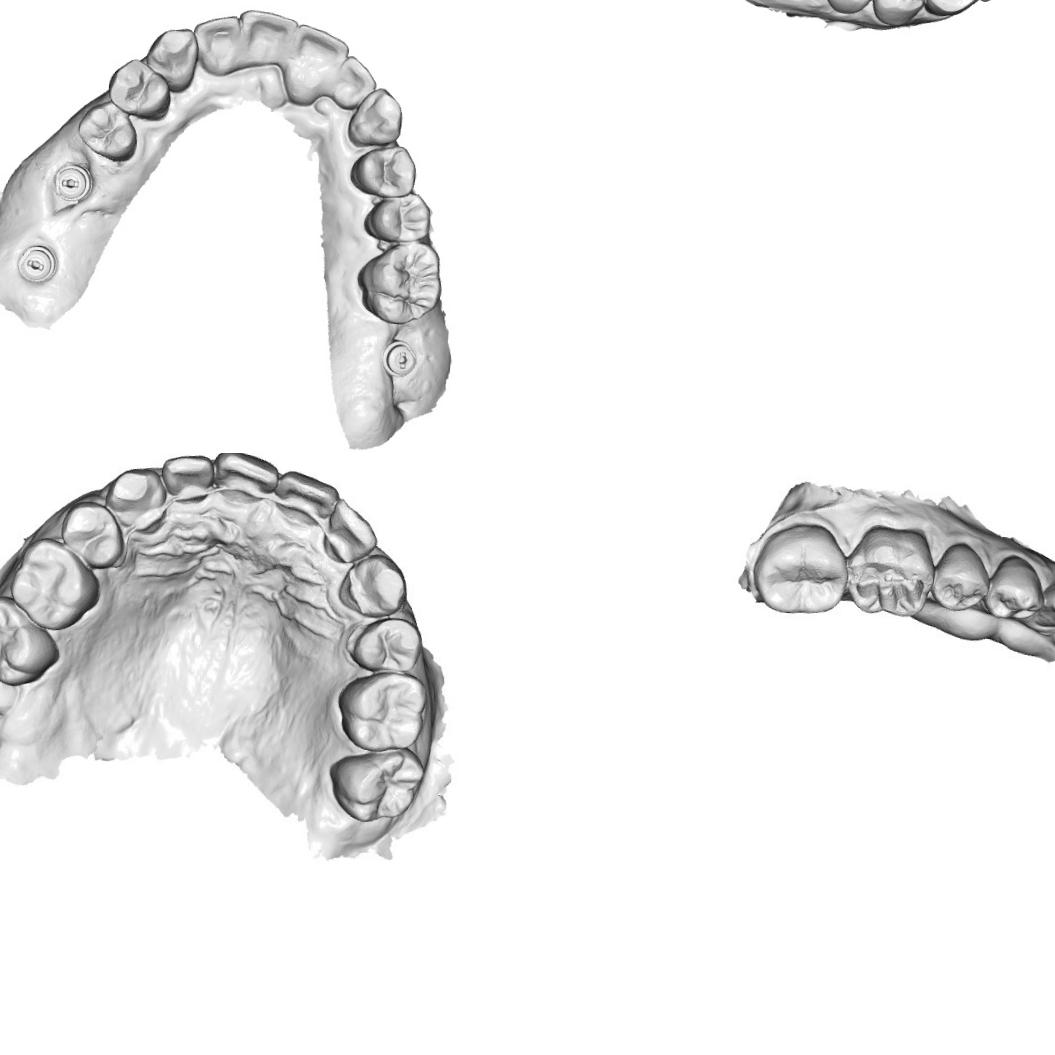canine: (108, 466, 177, 540), (340, 554, 403, 622), (344, 84, 406, 151), (142, 24, 200, 94), (1031, 574, 1055, 633), (918, 0, 979, 19)
implant_minus: (14, 242, 60, 286), (49, 160, 95, 204), (378, 336, 420, 380)
incisor: (279, 20, 351, 109), (234, 5, 298, 78), (191, 10, 242, 78), (160, 453, 220, 509), (278, 472, 336, 528), (322, 503, 375, 563), (216, 453, 276, 506), (329, 52, 379, 112)
inlay: (844, 554, 934, 616)
molar: (752, 521, 852, 616), (352, 233, 446, 327), (330, 744, 426, 826), (346, 669, 432, 752), (14, 540, 90, 624), (0, 596, 65, 690)
premolar: (928, 537, 989, 614), (104, 55, 174, 122), (60, 495, 121, 570), (73, 97, 141, 164), (985, 551, 1047, 623), (347, 140, 419, 200), (362, 187, 435, 245), (358, 617, 422, 674), (869, 0, 928, 28), (819, 0, 878, 16)
